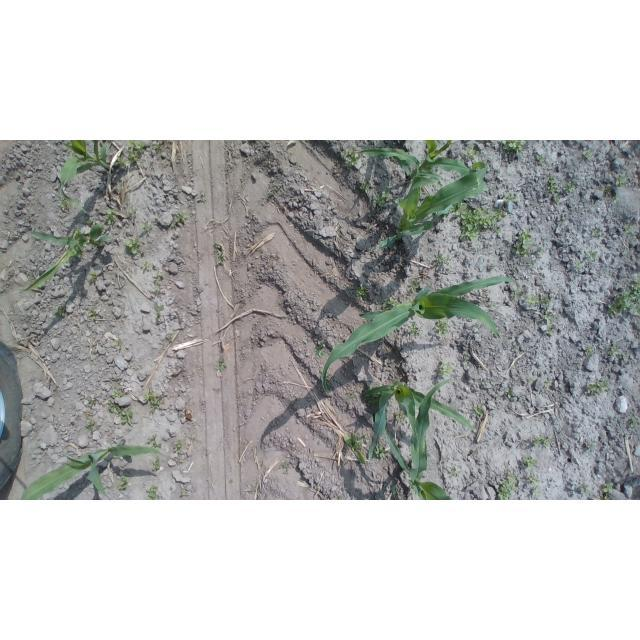Maize: (321, 277, 516, 396), (378, 163, 489, 249), (22, 440, 163, 501), (381, 381, 451, 500), (365, 382, 475, 456), (17, 224, 113, 291), (357, 140, 482, 182), (59, 140, 113, 208)
Weeds: (450, 200, 506, 242), (608, 279, 640, 316), (514, 229, 542, 264), (343, 433, 369, 466), (107, 400, 133, 425), (124, 141, 149, 164), (144, 388, 165, 412), (546, 176, 561, 205), (498, 476, 516, 500), (372, 188, 392, 208), (499, 141, 525, 156), (344, 148, 361, 168), (438, 359, 454, 380), (125, 238, 144, 255), (587, 380, 609, 394), (532, 434, 553, 448), (366, 393, 381, 412), (435, 318, 451, 335), (172, 211, 188, 226), (215, 241, 225, 265), (463, 145, 480, 159), (408, 322, 423, 337), (437, 253, 452, 268), (602, 482, 614, 500), (382, 296, 400, 308), (147, 484, 160, 500), (407, 278, 419, 295), (523, 455, 537, 469), (373, 446, 388, 459), (148, 435, 161, 450), (105, 210, 118, 225), (118, 471, 128, 490), (267, 185, 281, 198), (113, 156, 128, 168), (360, 178, 371, 194), (525, 294, 539, 306), (356, 285, 368, 298), (563, 180, 576, 192), (397, 410, 408, 424), (528, 474, 541, 485), (152, 141, 163, 154), (111, 389, 125, 399), (86, 420, 97, 432), (152, 301, 164, 312), (540, 296, 552, 307), (471, 406, 483, 417), (314, 345, 325, 357), (543, 311, 553, 324), (55, 305, 66, 316), (174, 440, 184, 452), (141, 220, 151, 232), (87, 308, 97, 320), (615, 175, 625, 187), (391, 485, 399, 500), (88, 270, 97, 283), (610, 344, 619, 356), (76, 249, 85, 260), (504, 194, 515, 203), (152, 459, 160, 471), (218, 360, 225, 373), (154, 272, 165, 280), (504, 388, 512, 399), (630, 417, 638, 428), (511, 291, 523, 298), (450, 468, 459, 477), (588, 252, 597, 261), (88, 397, 96, 406), (141, 261, 150, 269), (60, 203, 69, 211), (624, 224, 632, 233), (586, 346, 593, 356), (604, 186, 612, 194), (584, 150, 592, 158), (536, 155, 544, 163), (198, 196, 207, 203), (128, 207, 136, 214), (84, 220, 92, 227), (114, 341, 121, 348), (168, 333, 175, 340), (576, 262, 583, 269), (583, 485, 589, 493), (152, 285, 160, 291), (612, 197, 620, 203), (546, 326, 552, 334), (545, 380, 551, 388), (325, 380, 331, 388), (592, 229, 600, 235), (463, 356, 469, 364), (154, 316, 159, 324), (487, 302, 495, 307), (179, 492, 187, 497), (481, 381, 487, 387), (588, 445, 593, 452), (117, 182, 122, 189), (336, 495, 343, 500), (533, 492, 541, 496), (624, 355, 629, 361), (283, 462, 288, 467), (528, 378, 534, 382), (474, 324, 478, 328), (292, 400, 296, 404), (535, 318, 538, 323)
